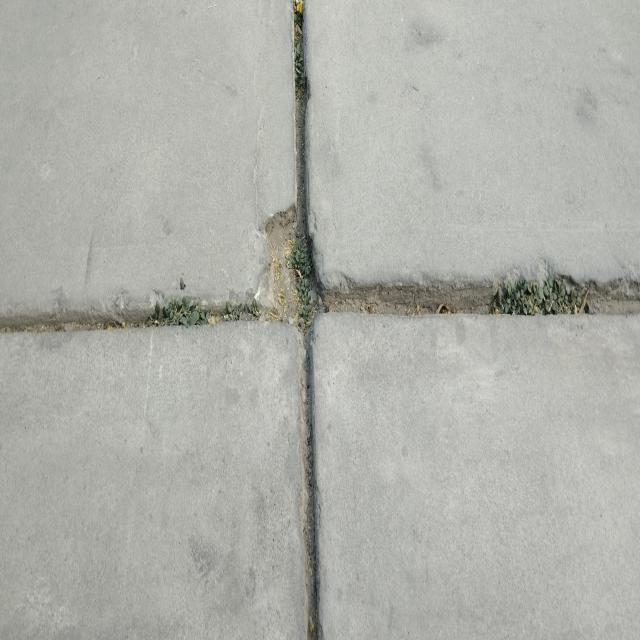hole: (252, 206, 342, 348)
